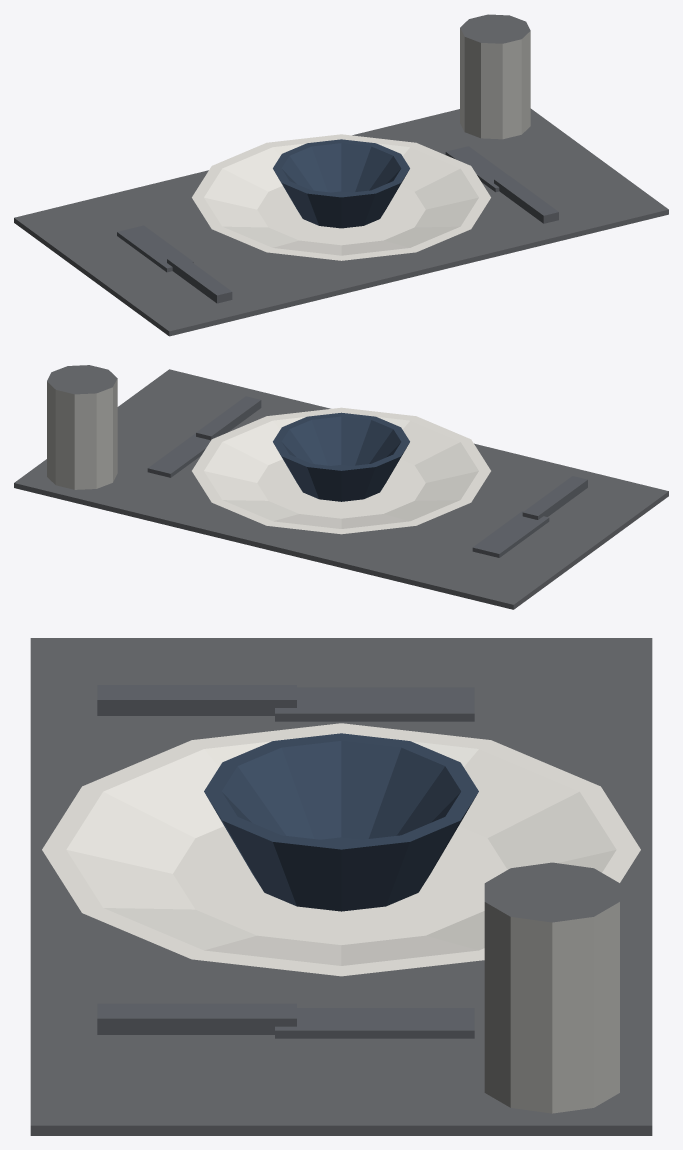
File: FN_Setting_Place.glb
3 renders of one model, top to bottom at view 1: azimuth 30°, elevation 25°; view 2: azimuth 150°, elevation 25°; view 3: azimuth 270°, elevation 25°, orthographic. The views are drawn at different scales.
Parts seen in each view (by area): view 1: FN_Setting_Place; view 2: FN_Setting_Place; view 3: FN_Setting_Place.
Part boxes in pixels (x1,y1,x2,y2): FN_Setting_Place: (14, 14, 668, 336); FN_Setting_Place: (14, 365, 668, 609); FN_Setting_Place: (30, 638, 652, 1135).
Size of the model in its own units: 0.52 by 0.1 by 0.28.
1 material, 1 textured.
